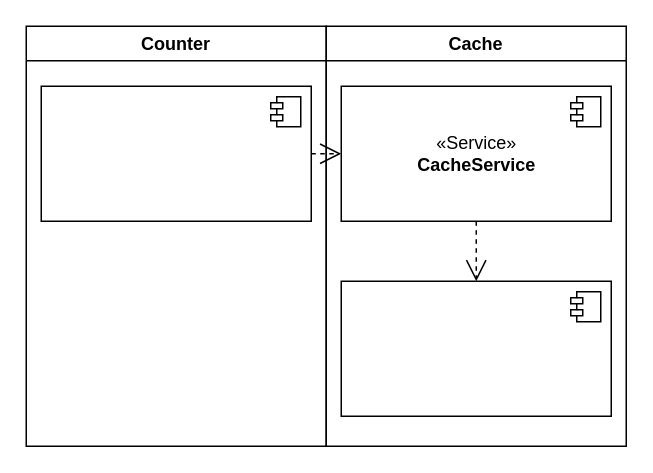
This 653x473 diagram has some shape labels left out. Here are the shapes that lost their labels. From the top down, the box of each, then its label:
(40, 85, 311, 221): «Service» DivisorCounter
(340, 280, 611, 416): «Database» CacheDatabase
